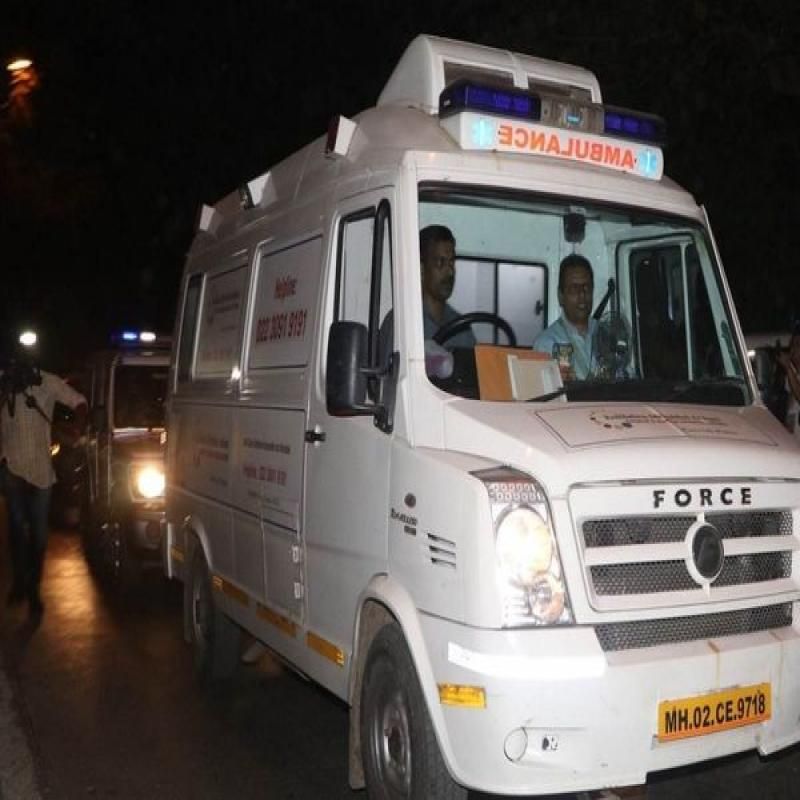ambulance: (187, 82, 800, 800)
